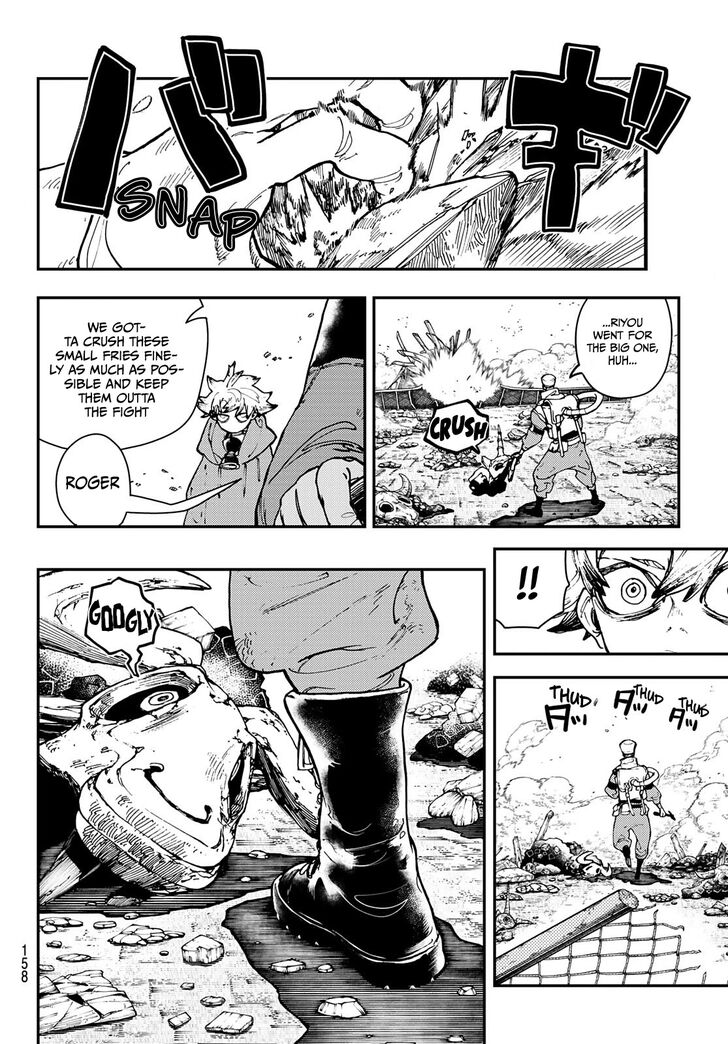bubble: (38, 297, 208, 449), (56, 434, 240, 527), (570, 298, 672, 398), (84, 578, 159, 676), (494, 549, 570, 629), (425, 400, 489, 453)
